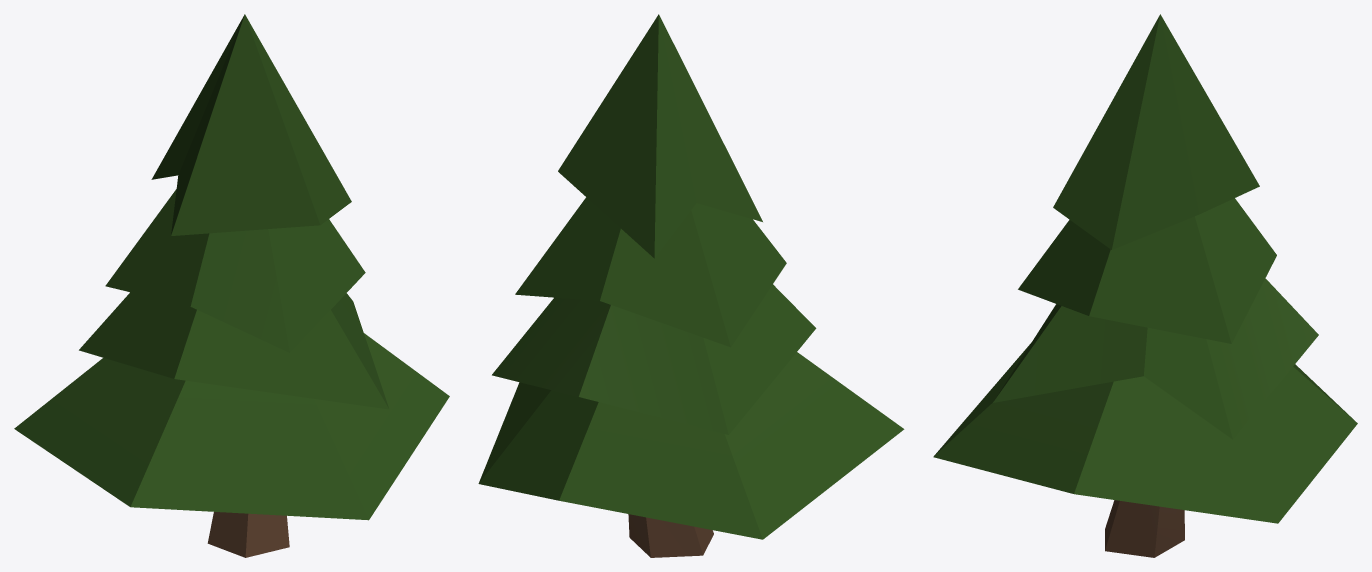
File: tree.fbx
The picture shows the model from 3 angles, left to right: view 1: azimuth 30°, elevation 25°; view 2: azimuth 150°, elevation 25°; view 3: azimuth 270°, elevation 25°; orthographic projection. The views are drawn at different scales.
Visible parts, largest first — view 1: Tree1; view 2: Tree1; view 3: Tree1.
Part boxes in pixels (bbox=[...]): Tree1: bbox=[14, 14, 449, 557]; Tree1: bbox=[478, 14, 904, 557]; Tree1: bbox=[933, 14, 1357, 557].
Bounding box in the file's own units: 4.75 × 6.93 × 5.05.
